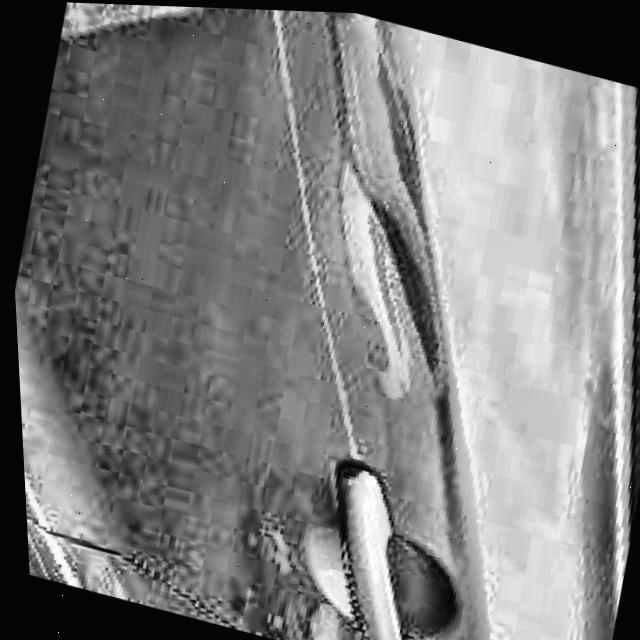door_dent: (289, 169, 486, 396)
